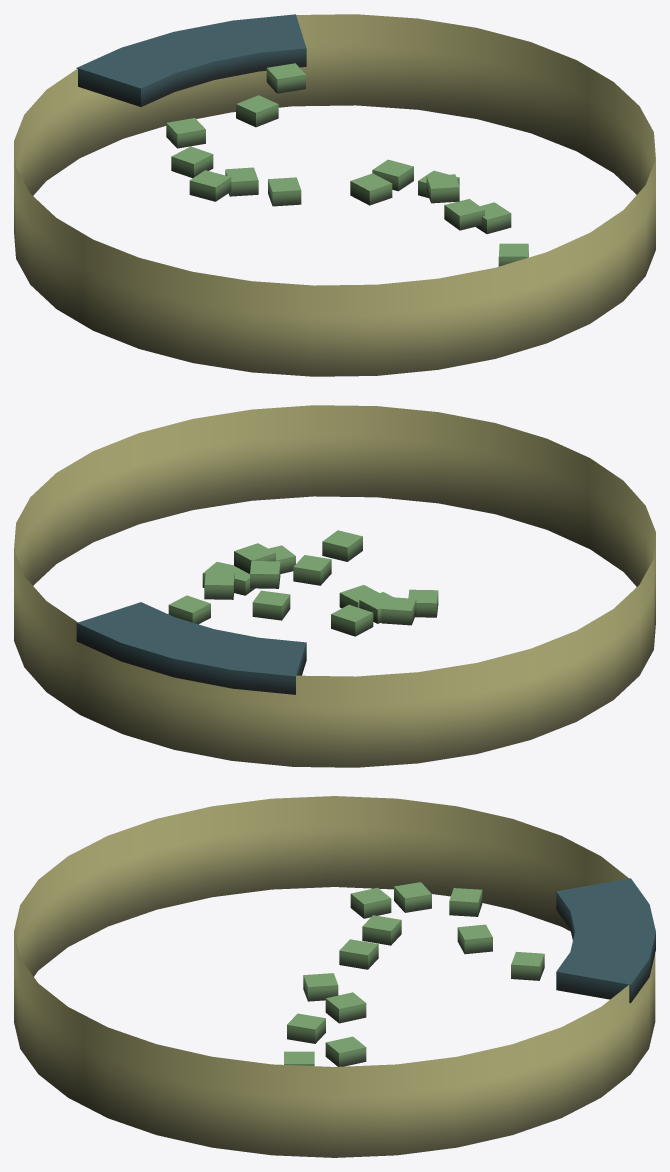
Rendered from Chunk01.glb.
The picture shows the model from 3 angles, top to bottom: view 1: azimuth 30°, elevation 25°; view 2: azimuth 150°, elevation 25°; view 3: azimuth 270°, elevation 25°; orthographic projection.
Visible parts, largest first — view 1: Chunk01; view 2: Chunk01; view 3: Chunk01.
Boxes of the visible parts, x1,y1,x2,y2 form: Chunk01: [14, 14, 655, 376]; Chunk01: [14, 405, 655, 767]; Chunk01: [14, 796, 655, 1157].
Size of what is drawn, in the model's own units: 69.14 by 11.88 by 69.22.
1 material, 1 textured.
